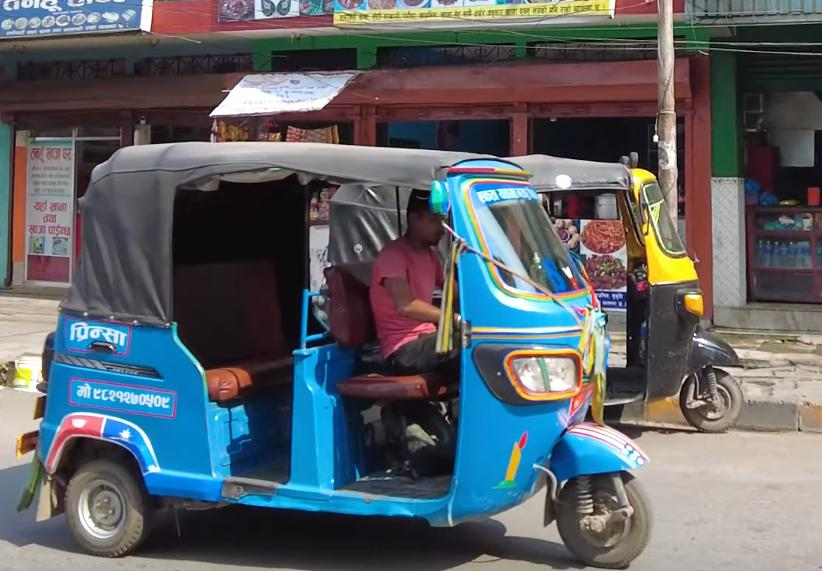auto_rickshaw: (17, 136, 658, 571), (535, 144, 751, 438)
